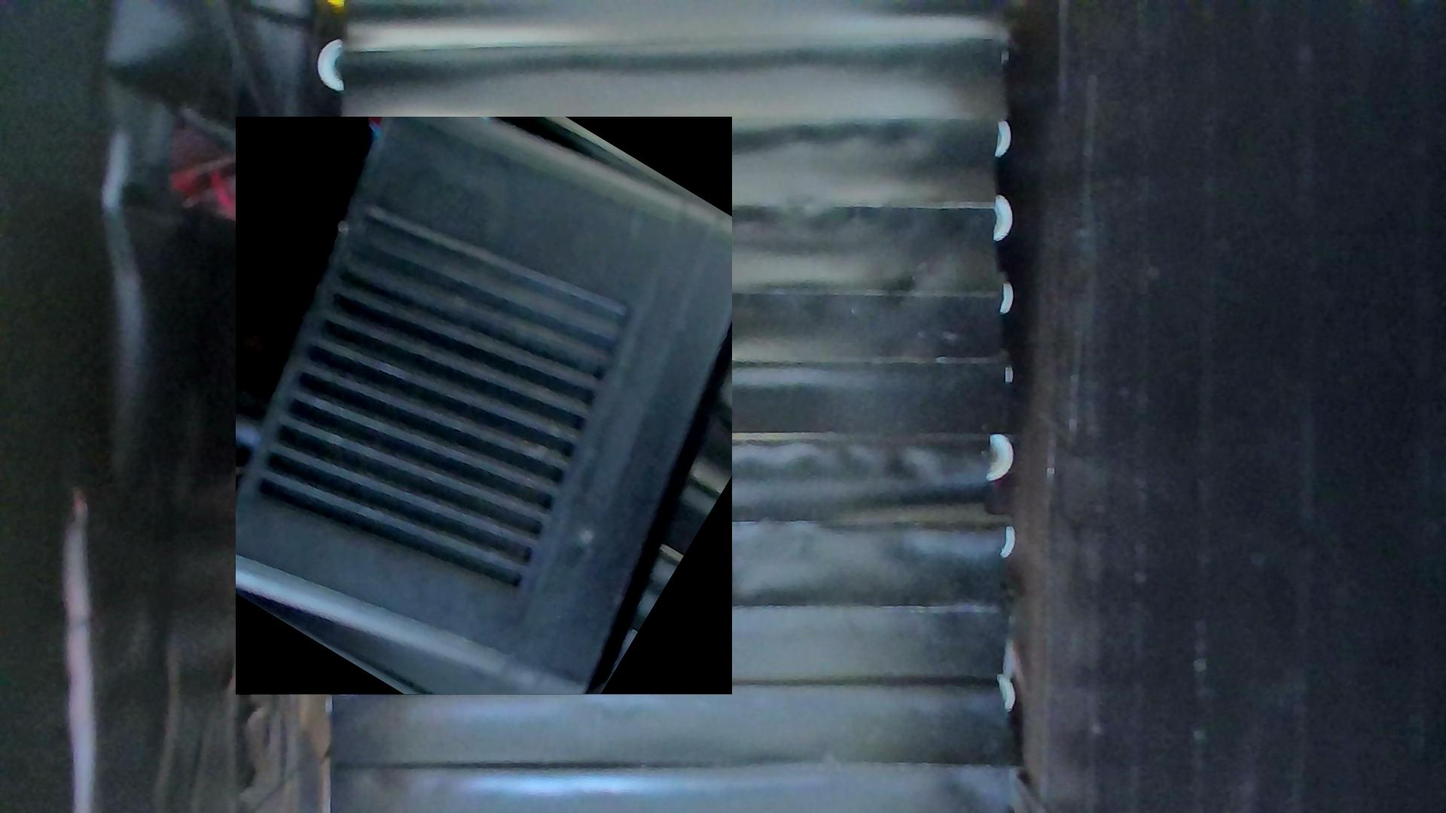motor: (236, 117, 732, 695)
